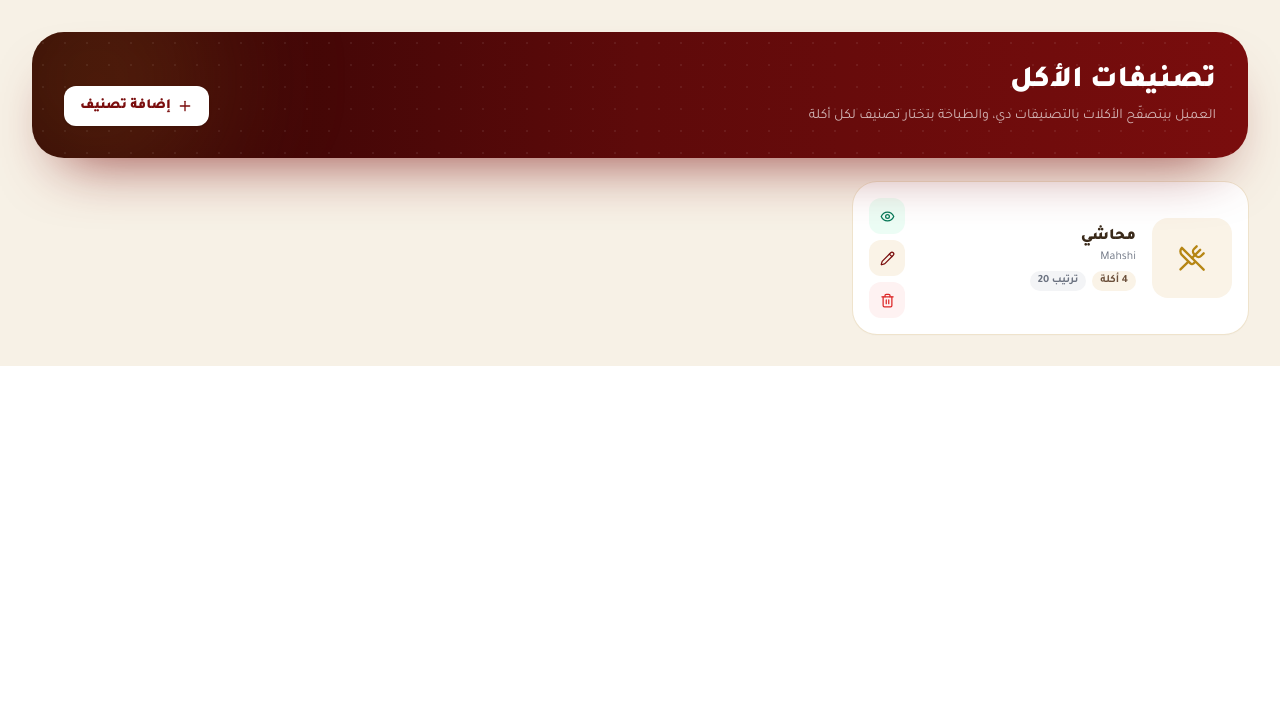
Food categories › hides a category from the app
Click the button named "إخفاء محاشي": (887, 216) [869,198,905,234]
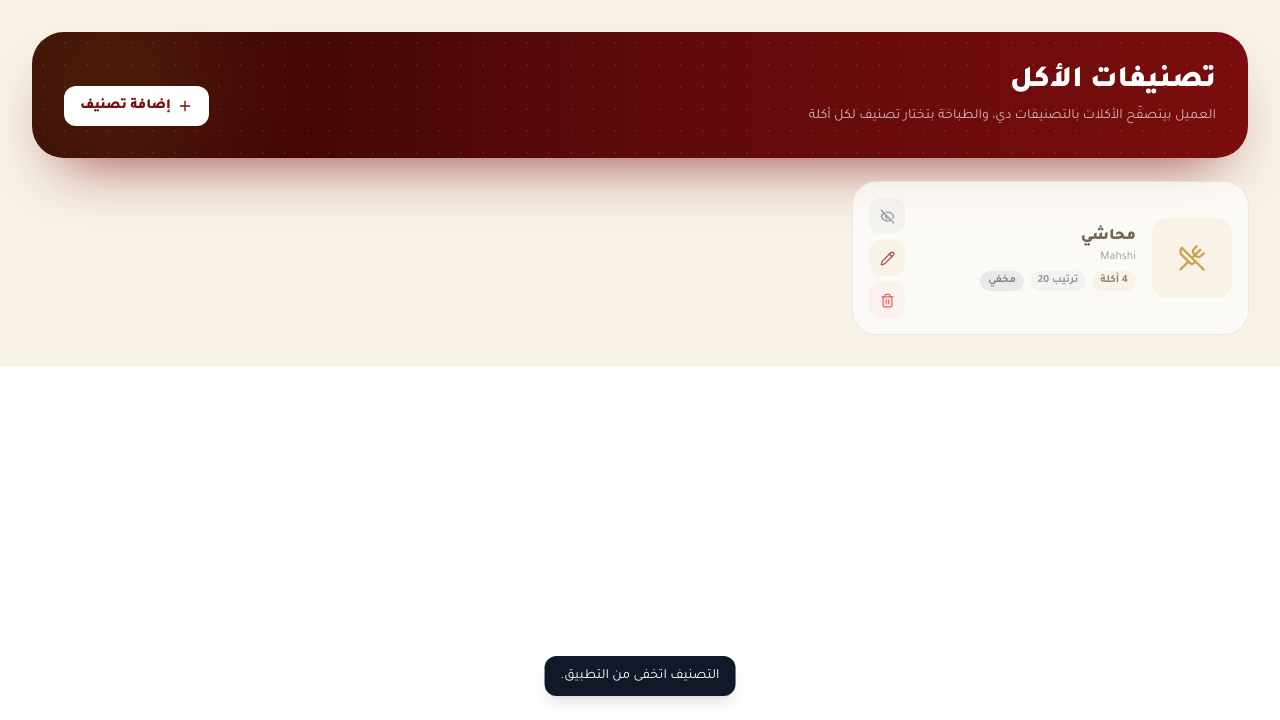
Expected: the text "4 أكلة" is shown, [1092,271,1136,291]
Result: the text "مخفي" is shown at [980,271,1024,291]
